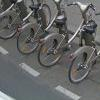Bicycle: (1, 0, 96, 83)
